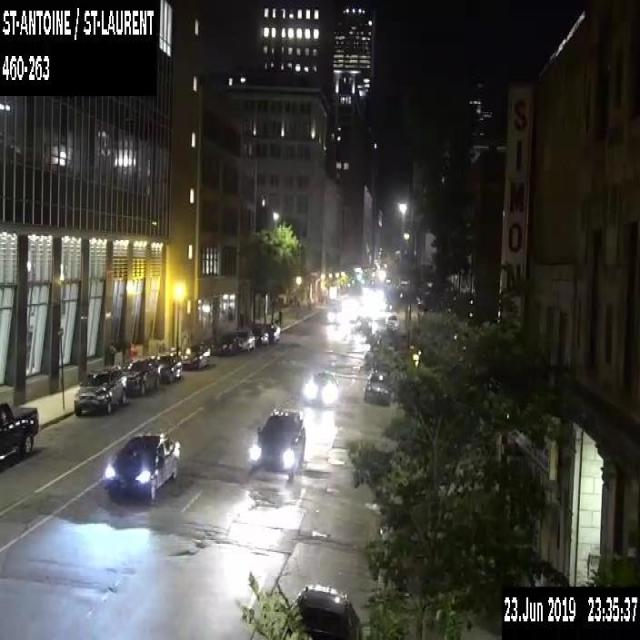pedestrian: (109, 340, 116, 363), (278, 308, 282, 324)
vehicle: (104, 430, 182, 500), (283, 582, 363, 638), (254, 407, 307, 473), (0, 400, 38, 473), (73, 364, 128, 414), (122, 355, 160, 394), (363, 369, 393, 404), (307, 370, 338, 402), (155, 352, 182, 383), (180, 342, 209, 368), (218, 331, 240, 354), (233, 328, 254, 349), (355, 313, 372, 330), (264, 322, 280, 340), (252, 327, 268, 344), (385, 312, 399, 331), (328, 306, 341, 323)
